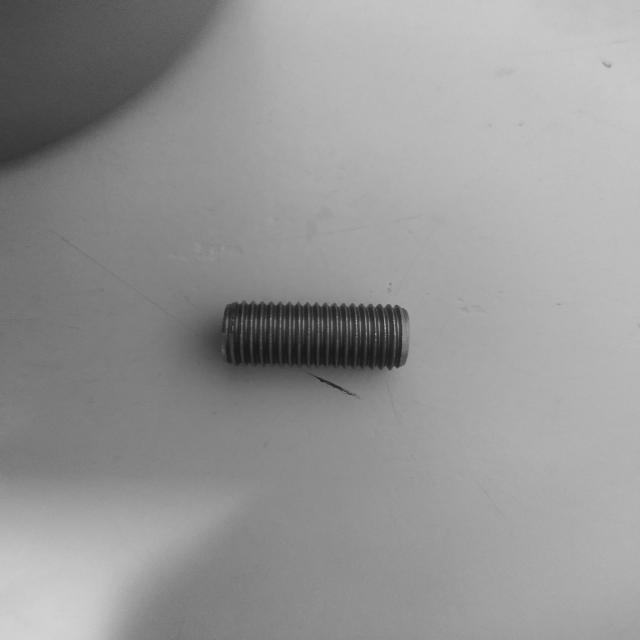Normal: (220, 298, 411, 372)
